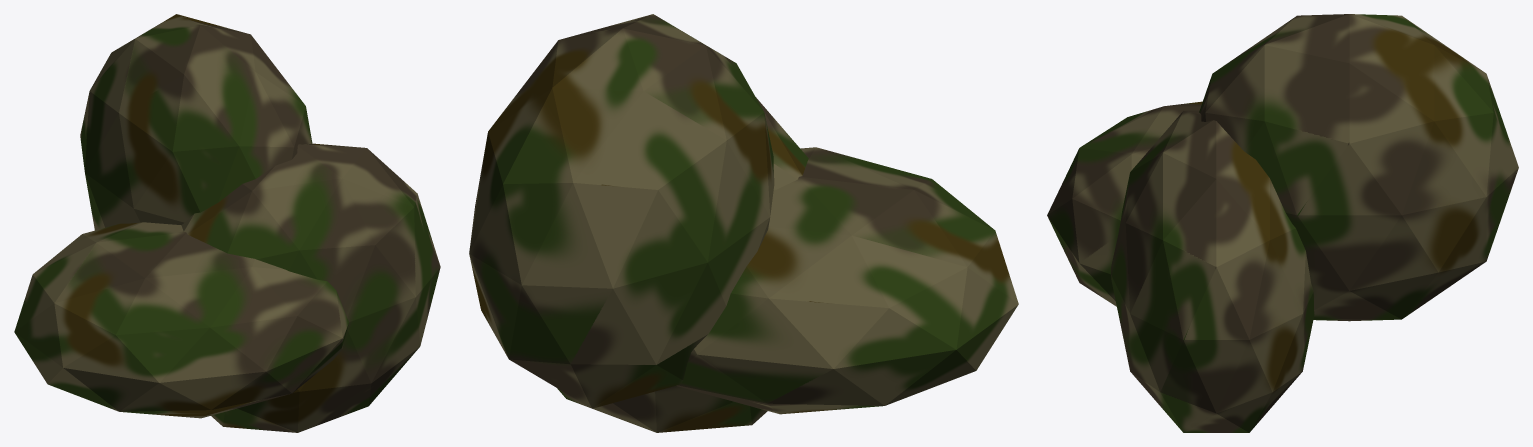
Rendered from asteroid.glb.
3 views of the same model, side by side, from view 1: azimuth 30°, elevation 25°; view 2: azimuth 150°, elevation 25°; view 3: azimuth 270°, elevation 25° (orthographic). The views are drawn at different scales.
Visible parts, largest first — view 1: Icosphere.002; view 2: Icosphere.002; view 3: Icosphere.002.
Part boxes in pixels (x1,y1,x2,y2): Icosphere.002: [14, 14, 440, 432]; Icosphere.002: [469, 14, 1018, 432]; Icosphere.002: [1047, 14, 1518, 432].
Bounding box in the file's own units: 2.82 × 2.57 × 2.78.
1 material, 1 textured.
